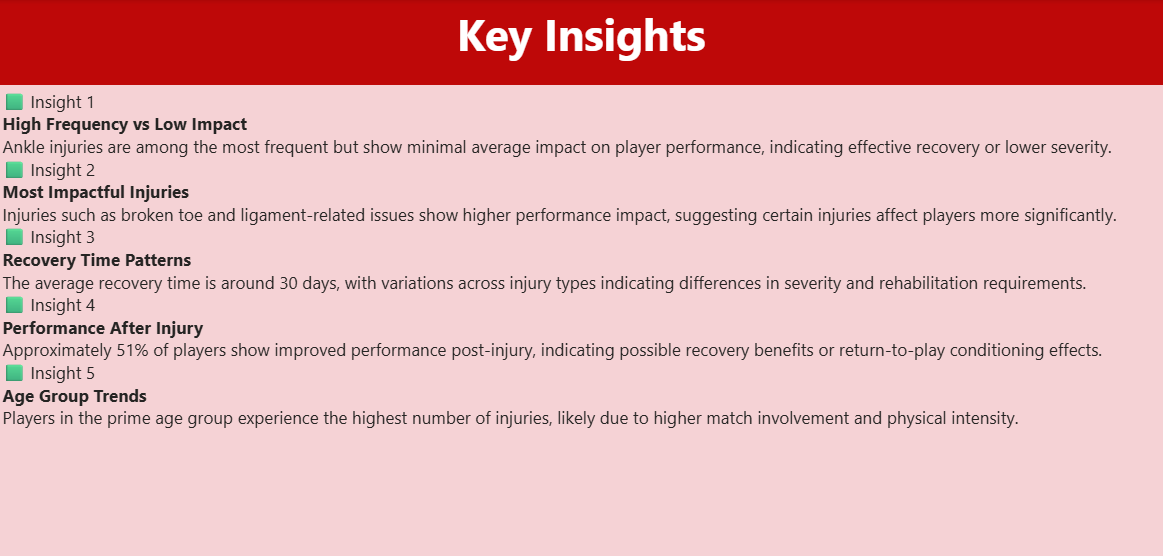

This screenshot's page, from the dashboard's own definition file:
{"tool":"powerbi","page":{"name":"Page 2","canvas":[1280,720],"ordinal":1},"visuals":[{"type":"textbox","box":[0,0,1280.3,94],"z":0},{"type":"textbox","box":[0,94,1280.3,408],"z":1000}]}

Visuals, with their boxes on the page's 1280x720 design canvas (x1, y1, x2, y2). These are canvas units, not pixel positions in the 1163x556 screenshot, which may show the page scaled, cropped or inside an application window:
textbox: x1=0 y1=0 x2=1280 y2=94
textbox: x1=0 y1=94 x2=1280 y2=502
